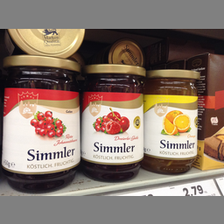jam: (3, 55, 82, 194), (82, 65, 145, 183), (144, 69, 199, 175)
